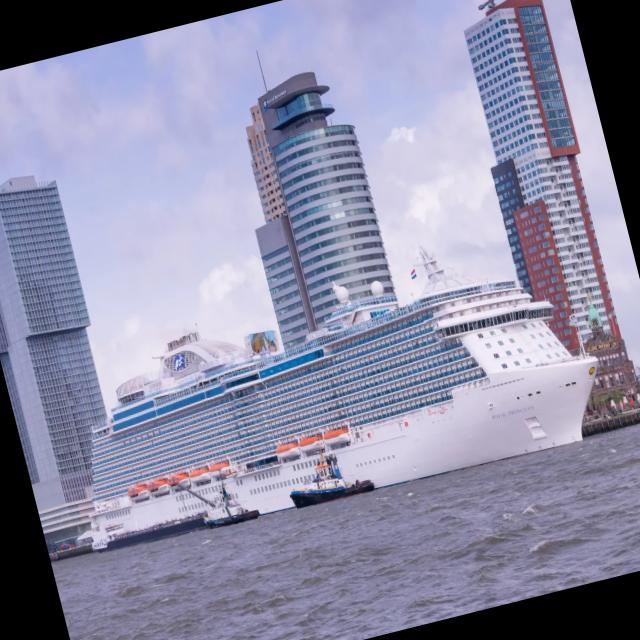Cruise: (82, 249, 597, 549)
Tug: (290, 440, 373, 507), (203, 485, 259, 528)
